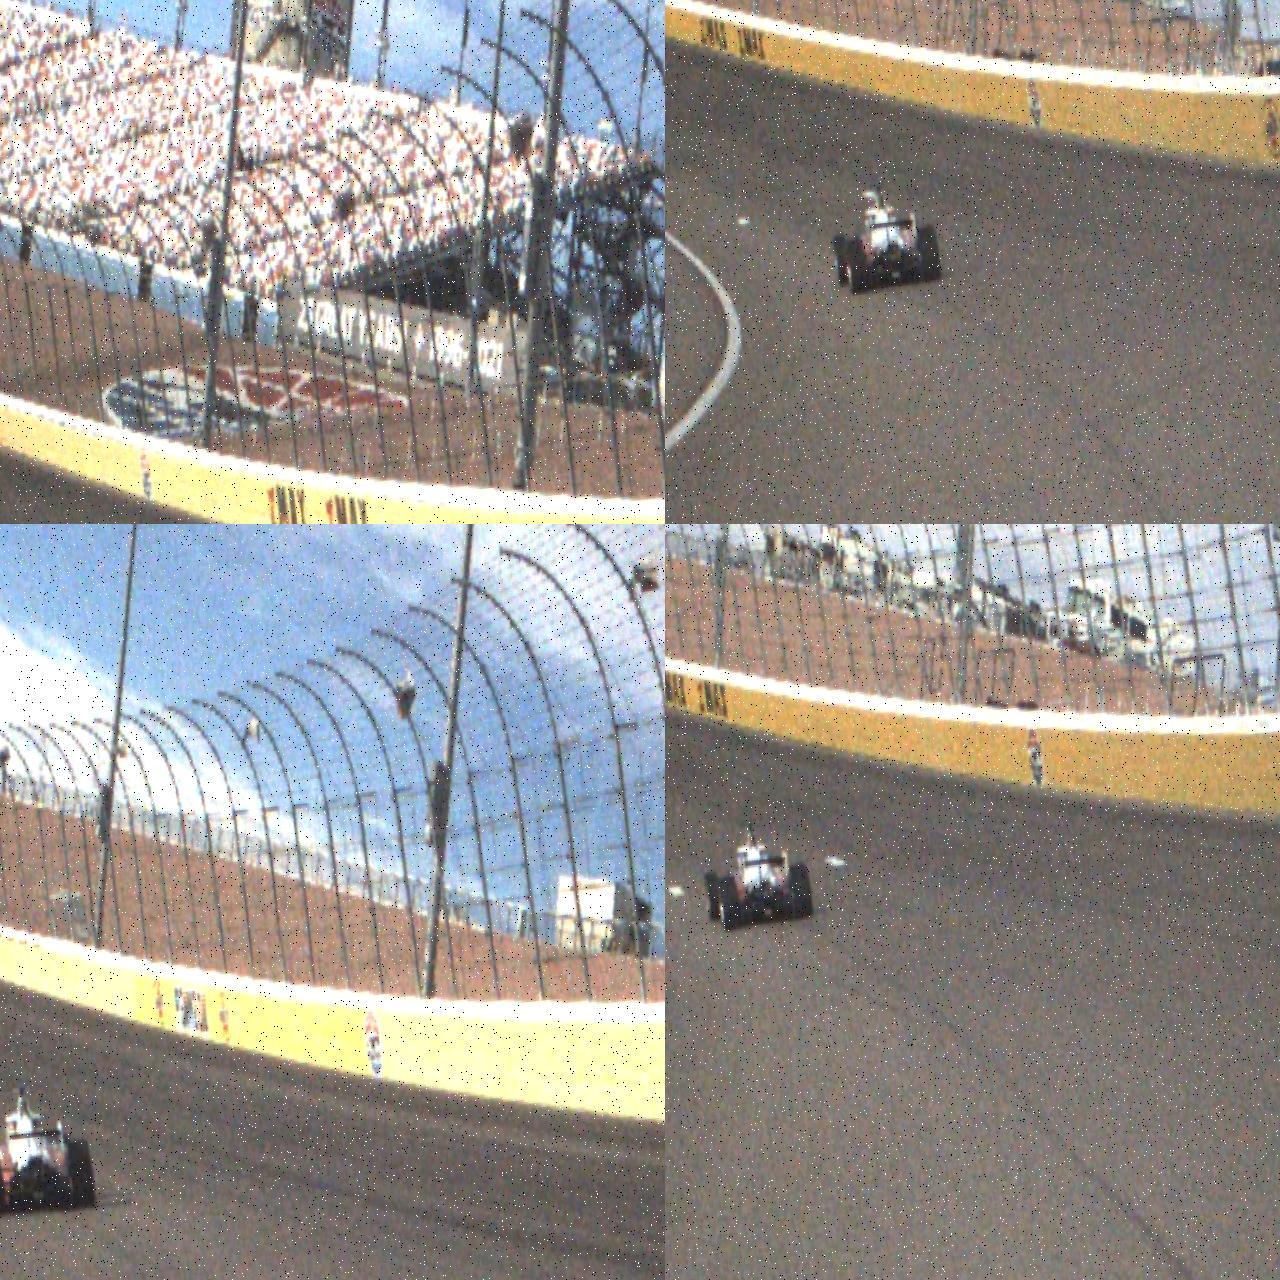AV: (826, 173, 944, 298), (698, 812, 815, 934), (0, 1078, 96, 1217)
Wheel: (70, 1138, 96, 1206), (716, 875, 742, 933), (845, 236, 870, 296), (916, 226, 942, 282), (790, 862, 814, 922), (703, 869, 723, 922), (832, 234, 851, 286)
